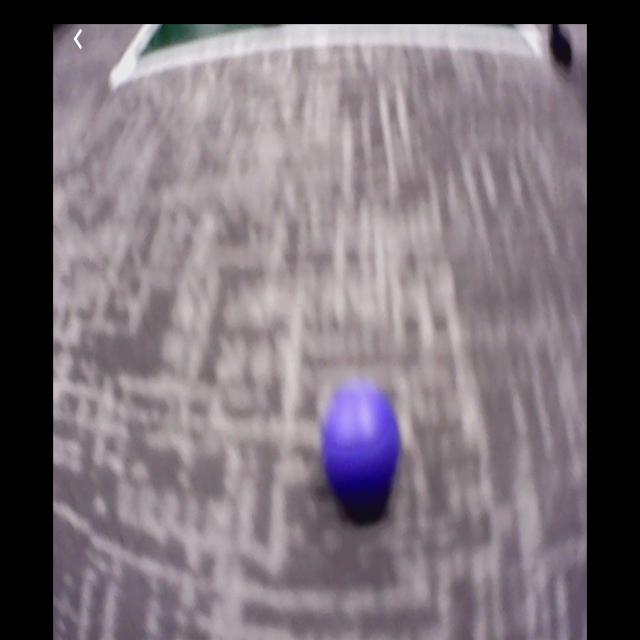ball: (321, 386, 401, 500)
